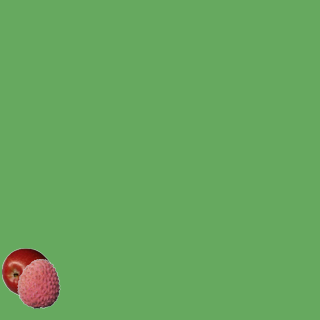Apple Braeburn: (1, 247, 51, 297)
Lychee: (13, 258, 63, 308)
